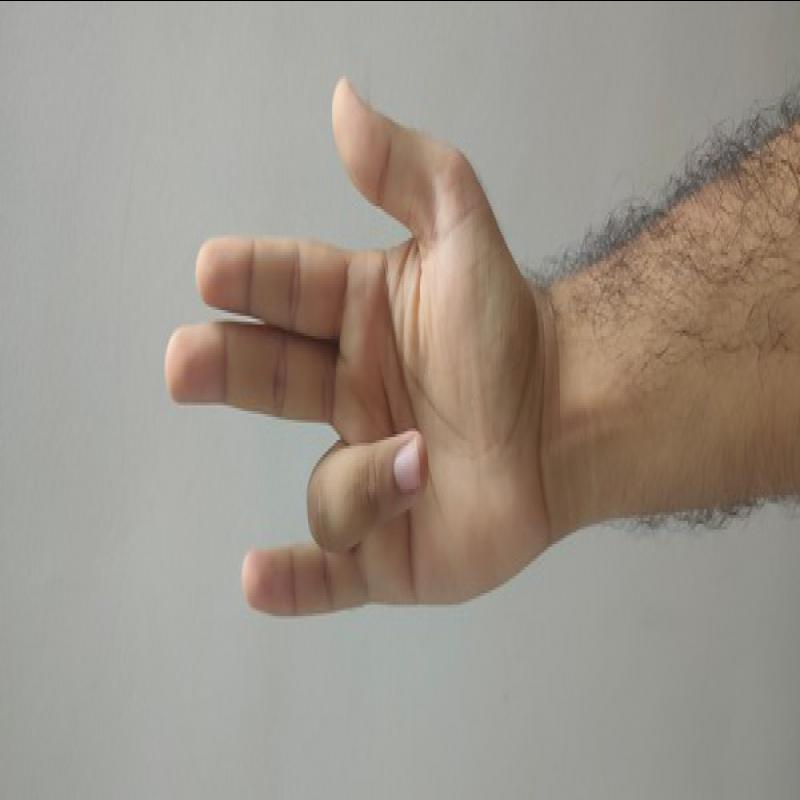Pathaaka: (139, 67, 572, 637)
